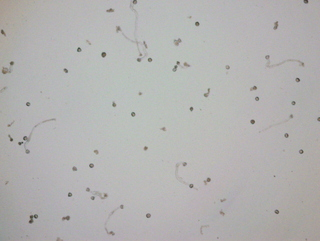germinated: (97, 189, 108, 201), (263, 53, 273, 66), (175, 159, 187, 169), (129, 0, 138, 13), (284, 112, 294, 123), (113, 202, 125, 211), (23, 142, 30, 156), (8, 59, 16, 71), (176, 58, 184, 70), (7, 134, 16, 144), (62, 213, 72, 222), (5, 120, 16, 128), (136, 54, 147, 61), (203, 88, 210, 99)
nongerminated: (74, 45, 85, 55), (293, 74, 302, 85), (273, 208, 283, 217), (143, 210, 152, 220), (87, 160, 96, 170), (65, 190, 74, 200), (92, 147, 101, 157), (204, 175, 213, 184), (159, 125, 168, 134), (109, 100, 118, 109), (99, 49, 108, 58), (70, 164, 79, 173), (282, 130, 290, 140), (128, 110, 138, 118), (253, 94, 261, 103), (248, 116, 256, 125), (223, 63, 232, 71), (296, 147, 305, 155), (188, 105, 197, 113), (140, 144, 149, 152), (187, 181, 195, 190), (23, 99, 31, 108), (31, 212, 41, 219), (251, 84, 259, 92), (193, 19, 201, 27), (89, 194, 97, 202), (289, 99, 297, 106), (138, 89, 146, 96), (27, 219, 35, 226), (83, 186, 91, 193), (176, 36, 183, 43), (21, 134, 28, 140), (17, 139, 23, 146), (172, 37, 178, 43), (174, 41, 178, 46)
